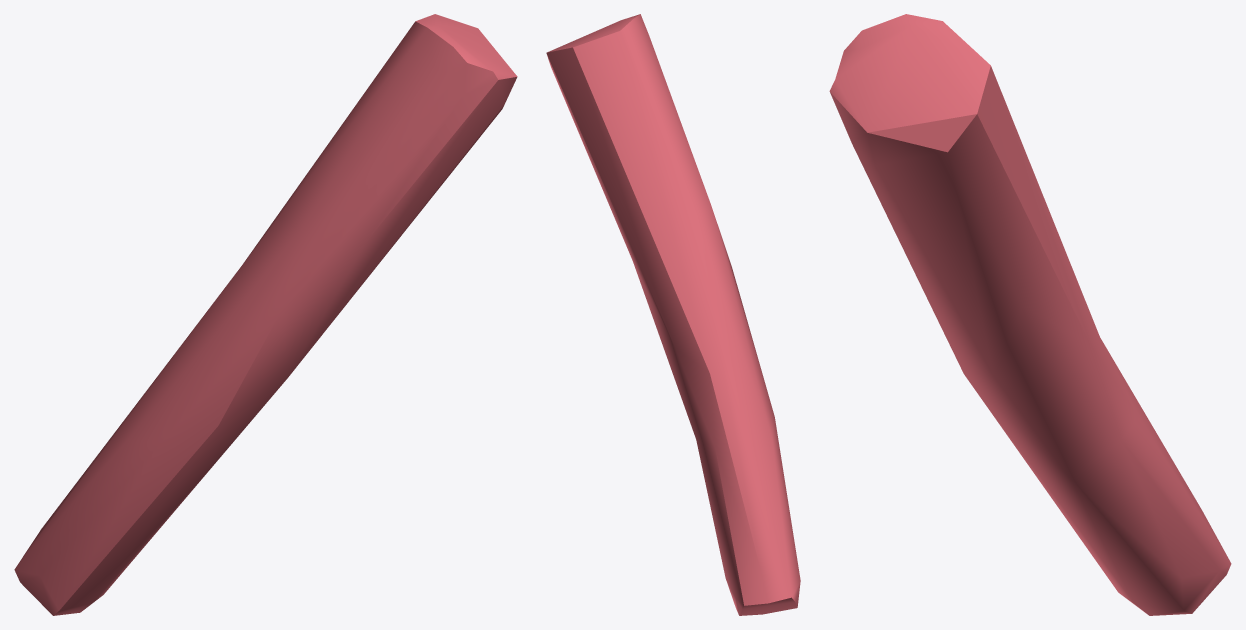
File: fma68140_fj5984.glb
3 renders of one model, left to right at view 1: azimuth 30°, elevation 25°; view 2: azimuth 150°, elevation 25°; view 3: azimuth 270°, elevation 25°, orthographic. The views are drawn at different scales.
Parts seen in each view (by area): view 1: FMA68140_FJ5984; view 2: FMA68140_FJ5984; view 3: FMA68140_FJ5984.
Boxes of the visible parts, x1,y1,x2,y2 form: FMA68140_FJ5984: (14, 14, 517, 615); FMA68140_FJ5984: (546, 14, 800, 615); FMA68140_FJ5984: (829, 14, 1231, 615).
Bounding box in the file's own units: 0.00973 × 0.0143 × 0.00683.
